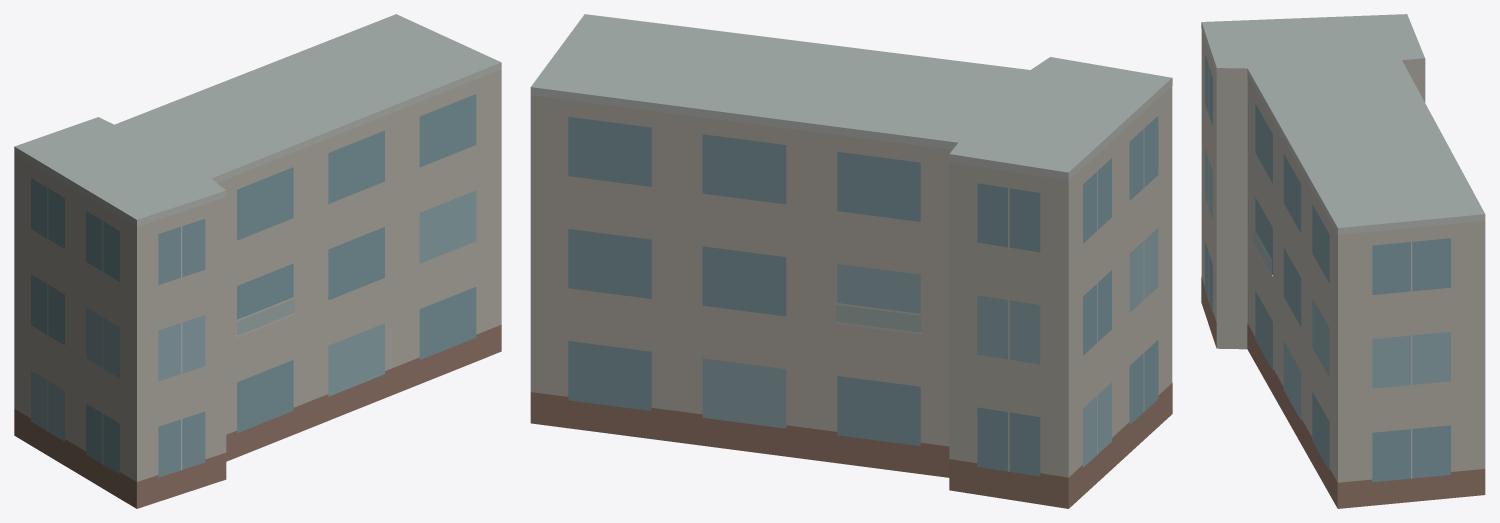
Rendered from survey-upis-33014271.glb.
3 views of the same model, side by side, from view 1: azimuth 30°, elevation 25°; view 2: azimuth 150°, elevation 25°; view 3: azimuth 270°, elevation 25° (orthographic). The views are drawn at different scales.
Parts seen in each view (by area): view 1: survey-upis-33014271.tmp; view 2: survey-upis-33014271.tmp; view 3: survey-upis-33014271.tmp.
Part boxes in pixels (bbox=[...]): survey-upis-33014271.tmp: bbox=[14, 14, 501, 508]; survey-upis-33014271.tmp: bbox=[530, 14, 1172, 508]; survey-upis-33014271.tmp: bbox=[1201, 14, 1485, 508].
Size of the model in its own units: 16.69 by 10.2 by 9.36.
